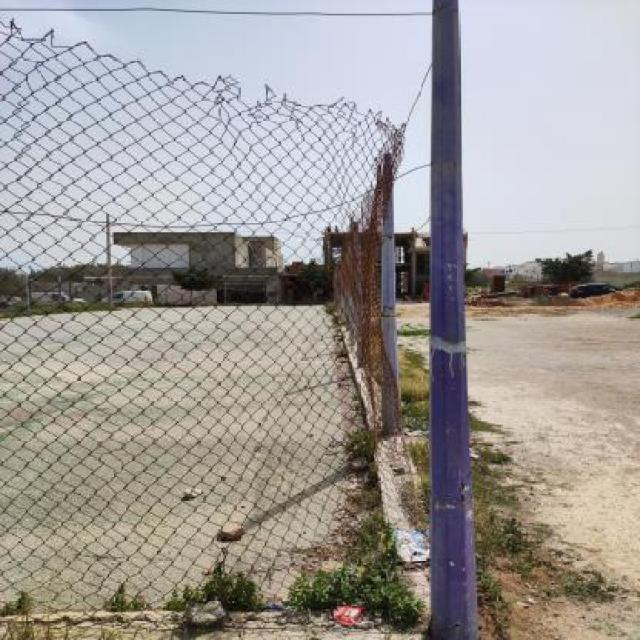fence line: (212, 156, 445, 618), (42, 9, 416, 120)
